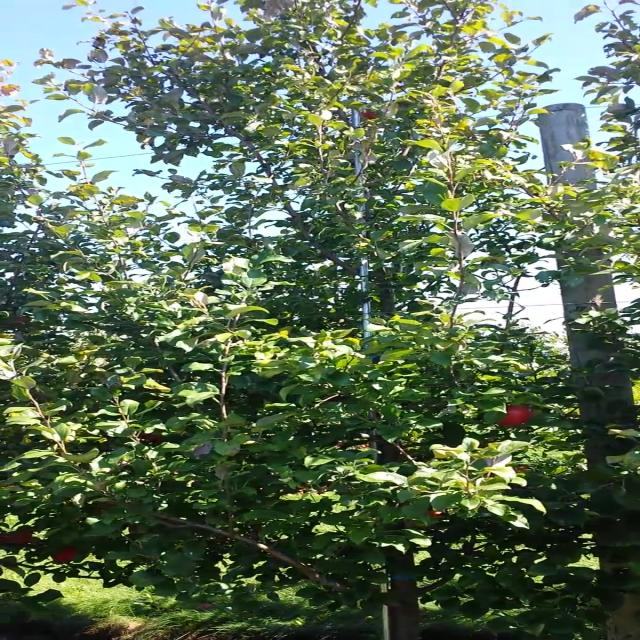apple: (496, 403, 532, 427), (1, 529, 34, 545), (50, 545, 74, 563), (138, 433, 164, 443), (360, 110, 379, 120), (423, 509, 444, 517)
